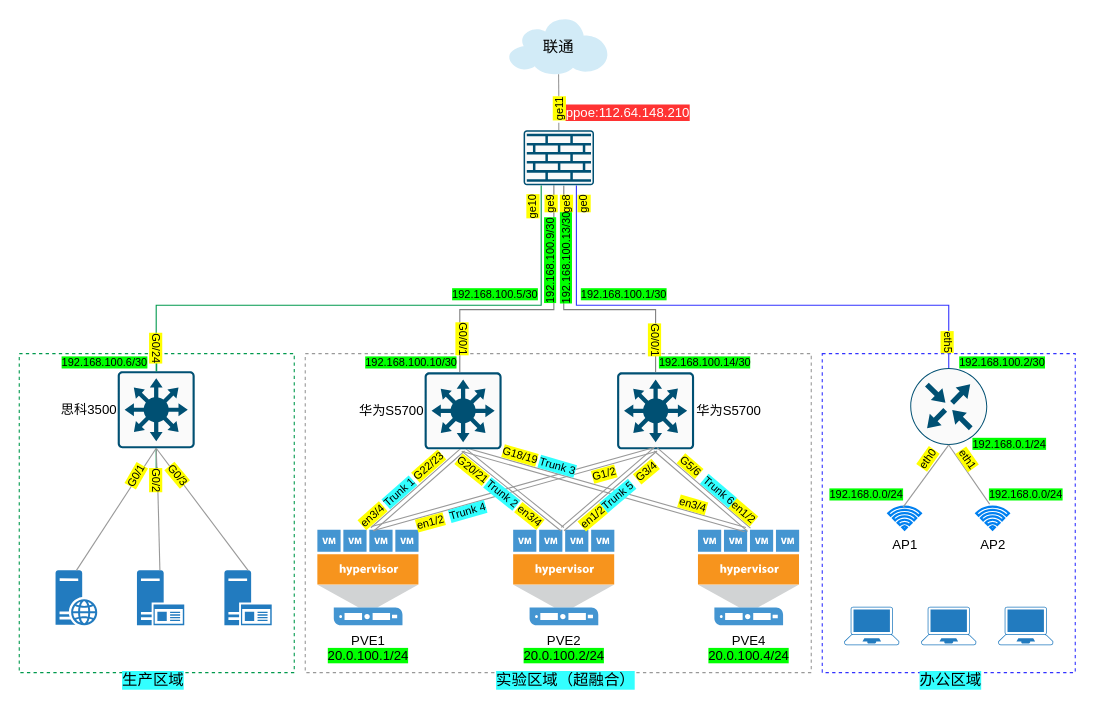
Some shapes in this 1100 by 715 pixel diagram are drawn without their labels. The shapes that lost their labels are listed below. From the top down, each one's box as (x1, y1, x2, y2) in pixels, then its label:
(522, 129, 594, 185): 防火墙SuperSG
(909, 367, 987, 445): VPN 网关
(55, 570, 97, 625): WEB 20.0.10.1
(136, 570, 184, 625): ERP 20.0.10.2
(224, 570, 271, 625): CRM 20.0.10.3
